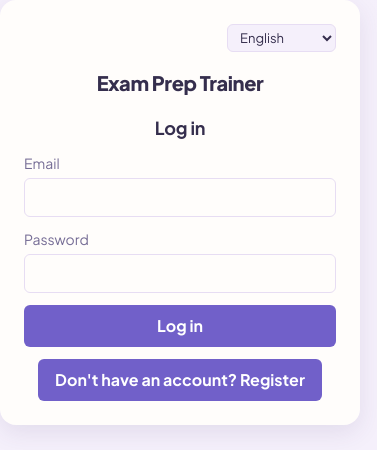
Scenario: LoginScreen › renders the login form by default and toggles to register
Check: the heading "Log in" is shown, box [155,116,205,139]
Check: the field labelled "Email" is shown, box [24,178,336,217]
Click the button "Don't have an account? Register".
click(180, 380)  # box [38,359,322,401]
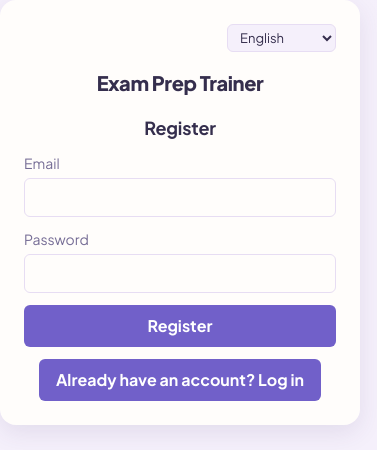
Check: the heading "Register" is shown, box [144,116,216,139]
